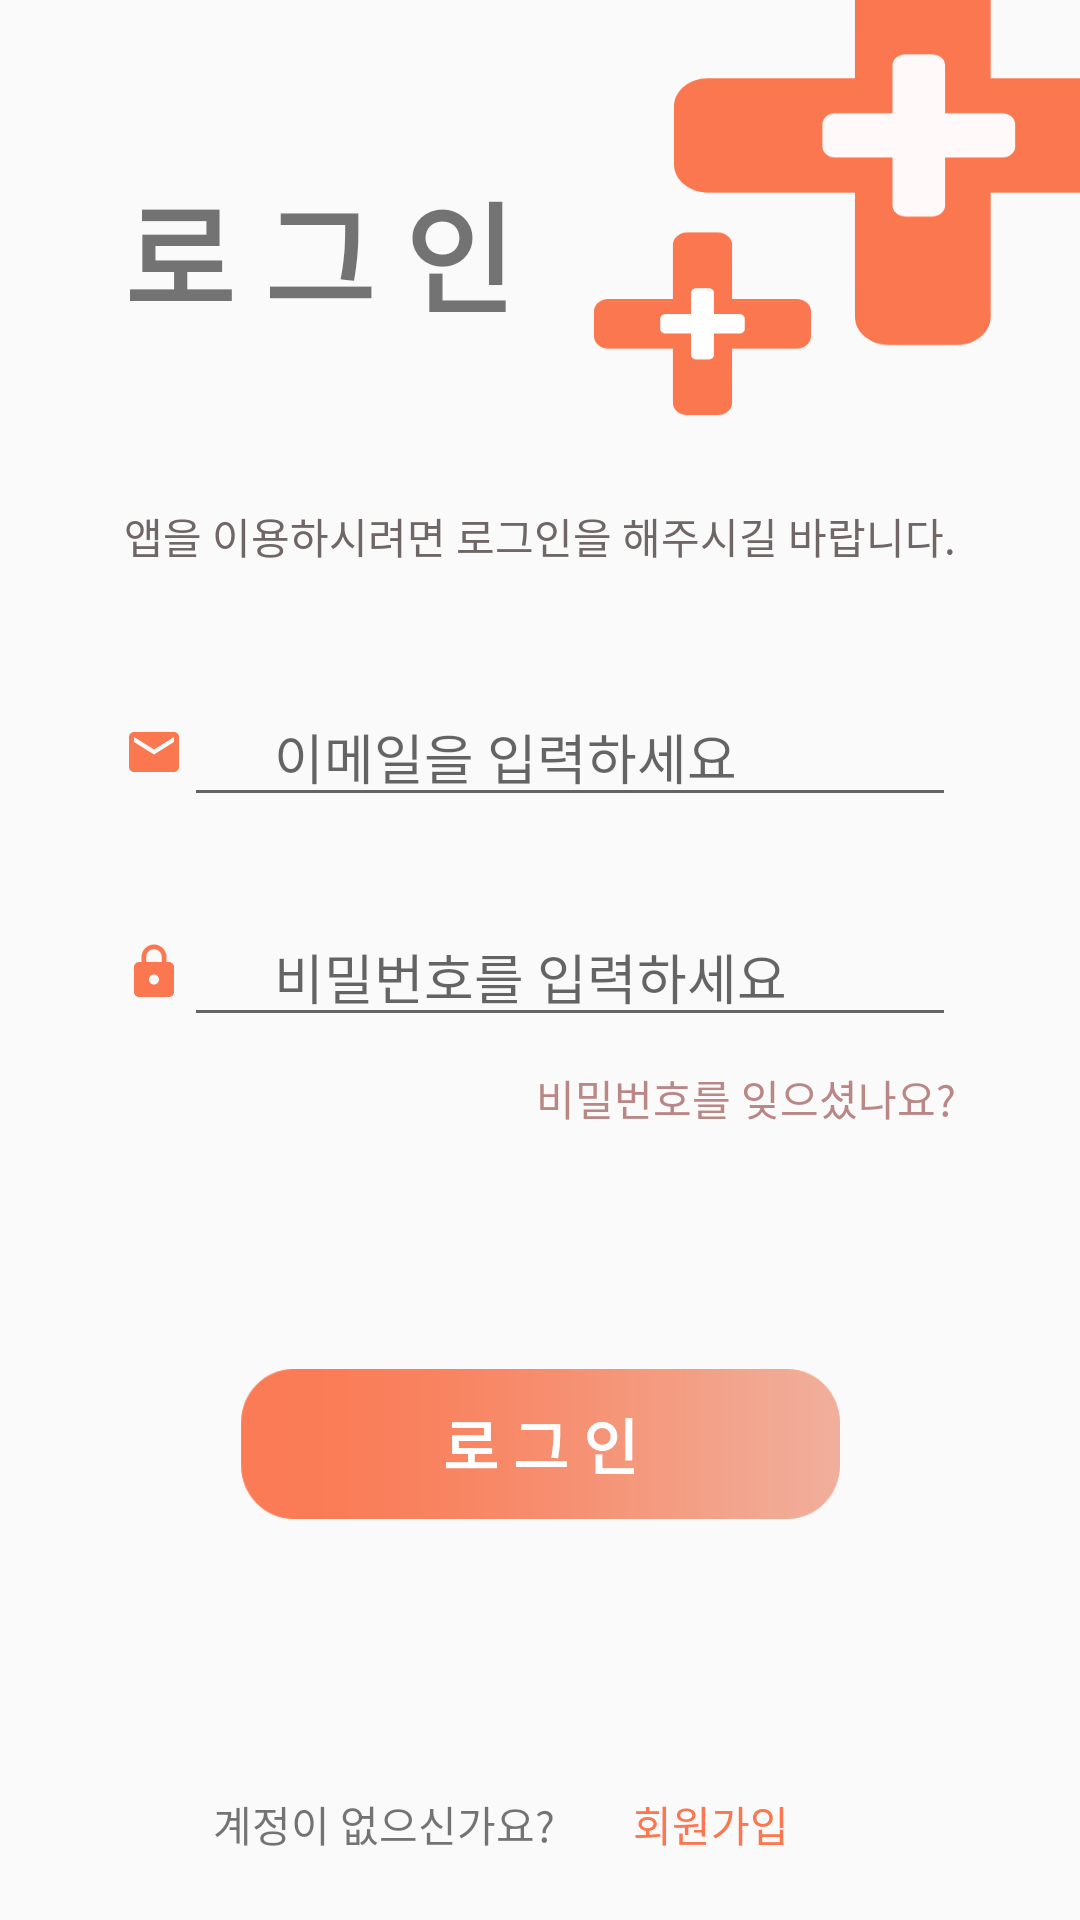

Where icons sit on this 1080×1920 app screen, as [x1,y1,x2,y2]:
email: [129,732,179,772]
lock: [134,944,174,997]
